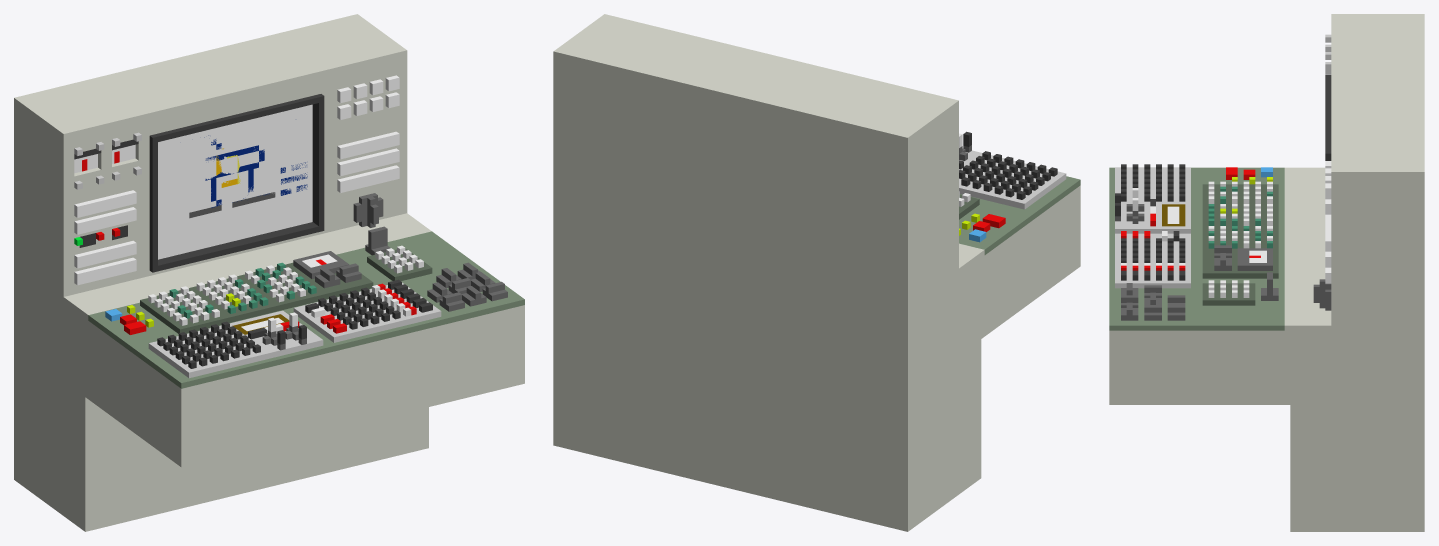
File: Control Panel2-2.fbx
3 renders of one model, left to right at view 1: azimuth 30°, elevation 25°; view 2: azimuth 150°, elevation 25°; view 3: azimuth 270°, elevation 25°, orthographic. The views are drawn at different scales.
Visible parts, largest first — view 1: Control Panel2-2.001, Control Panel2-2.002, Control Panel2-2.000, Control Panel2-2.009, Control Panel2-2.008; view 2: Control Panel2-2.002, Control Panel2-2.000, Control Panel2-2.018, Control Panel2-2.001; view 3: Control Panel2-2.001, Control Panel2-2.002, Control Panel2-2.000.
Part boxes in pixels (<box>): Control Panel2-2.001: <box>61,213,524,467</box>; Control Panel2-2.002: <box>14,14,407,327</box>; Control Panel2-2.000: <box>14,304,428,531</box>; Control Panel2-2.009: <box>158,104,312,259</box>; Control Panel2-2.008: <box>158,105,312,258</box>; Control Panel2-2.002: <box>553,14,958,357</box>; Control Panel2-2.000: <box>553,271,987,531</box>; Control Panel2-2.018: <box>647,103,813,271</box>; Control Panel2-2.001: <box>959,131,1080,338</box>; Control Panel2-2.001: <box>1109,164,1341,404</box>; Control Panel2-2.002: <box>1313,14,1424,373</box>; Control Panel2-2.000: <box>1278,330,1424,531</box>.
Bounding box in the file's own units: 6.4 × 6.8 × 5.4.
